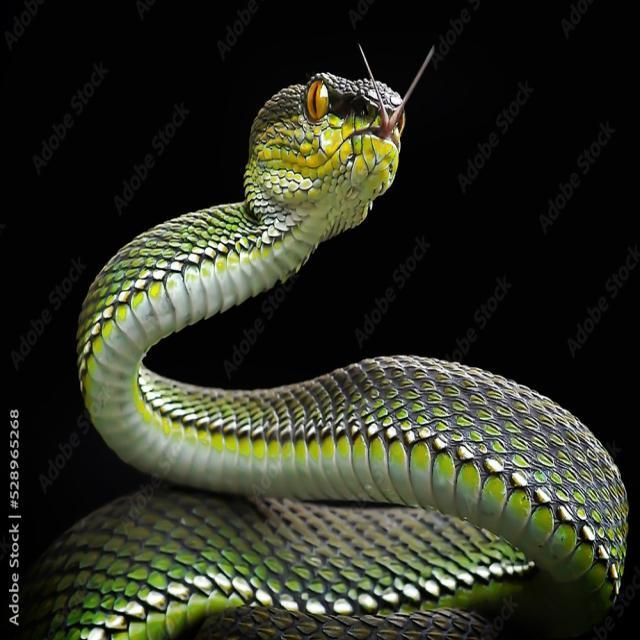Snake: (55, 33, 618, 600)
